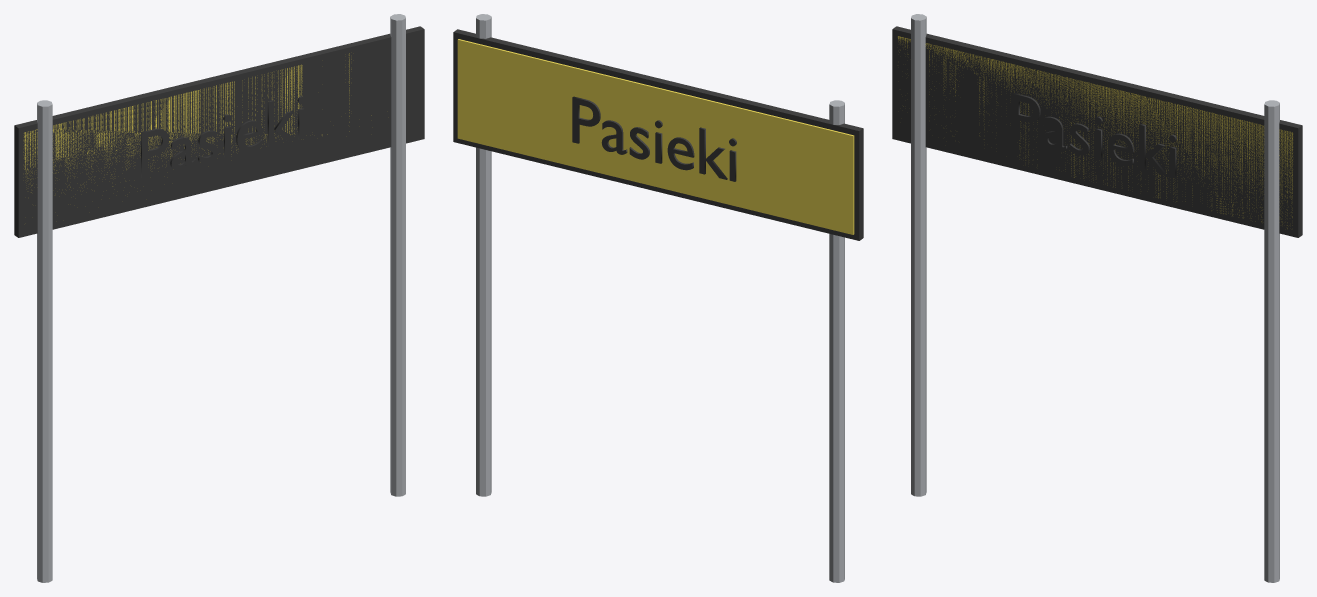
File: Tablica_Pasieki.fbx
The picture shows the model from 3 angles, left to right: view 1: azimuth 30°, elevation 25°; view 2: azimuth 150°, elevation 25°; view 3: azimuth 330°, elevation 25°; orthographic projection.
Visible parts, largest first — view 1: Tablica_Pasieki; view 2: Tablica_Pasieki; view 3: Tablica_Pasieki.
Part boxes in pixels (bbox=[...]): Tablica_Pasieki: bbox=[14, 14, 424, 582]; Tablica_Pasieki: bbox=[453, 14, 863, 582]; Tablica_Pasieki: bbox=[892, 14, 1302, 582].
Size of the model in its own units: 2.32 by 2.6 by 0.108.
